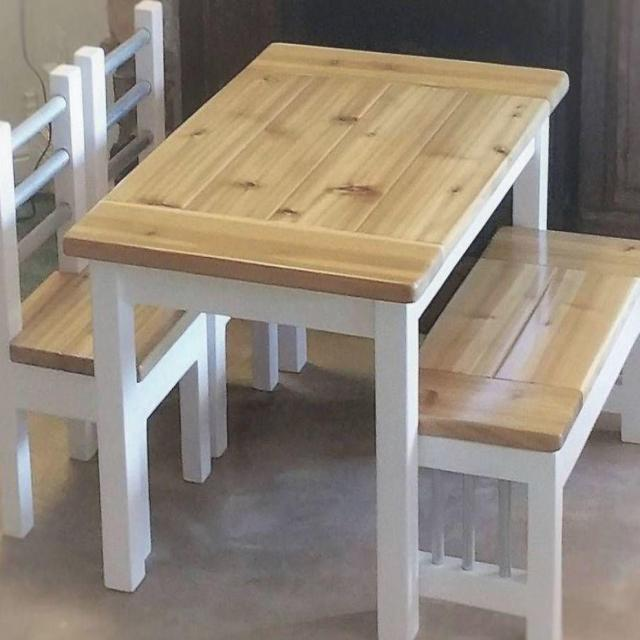table: (46, 6, 586, 638)
